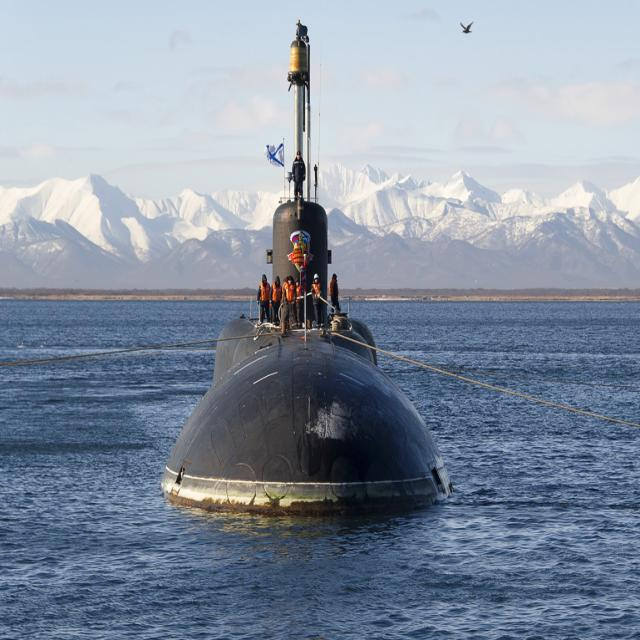submarine: (155, 1, 459, 521)
